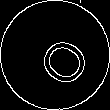O_NW: (22, 23, 88, 87)
